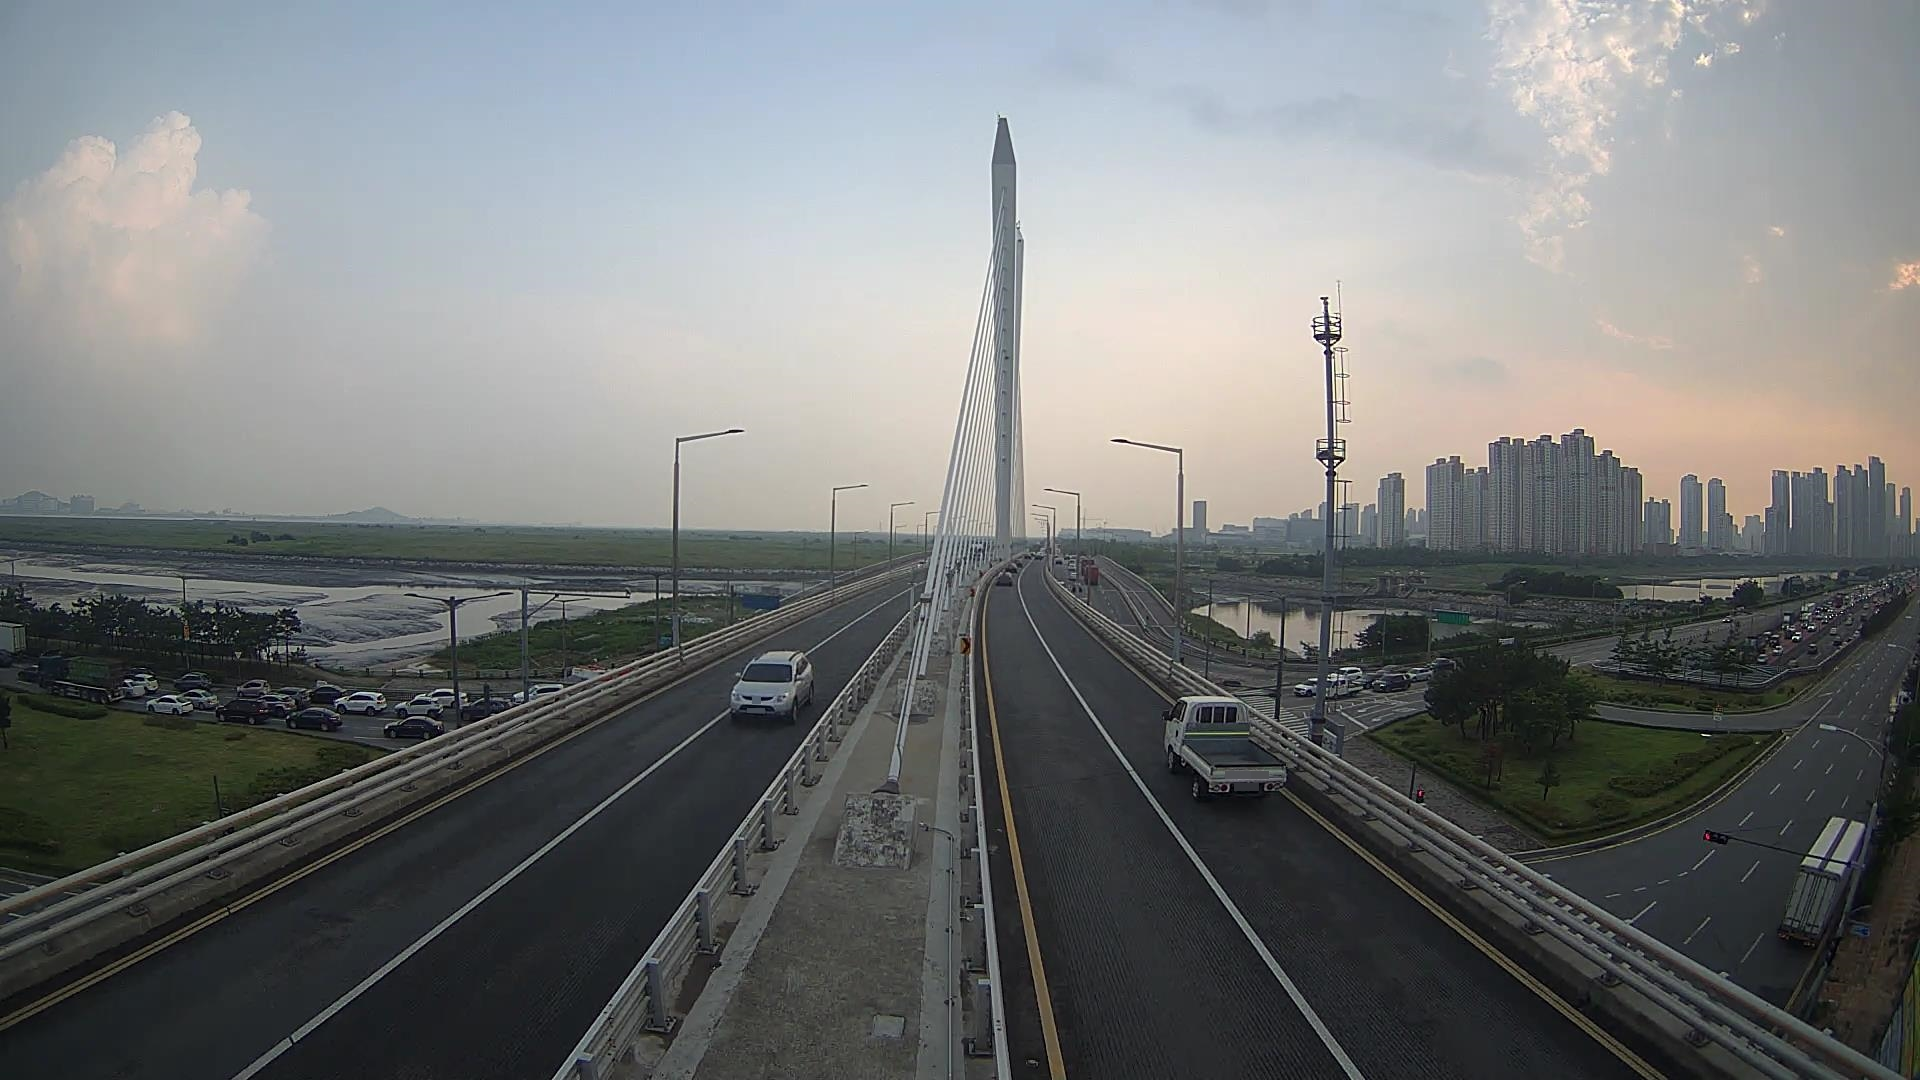정상차량: (1163, 696, 1288, 801)
